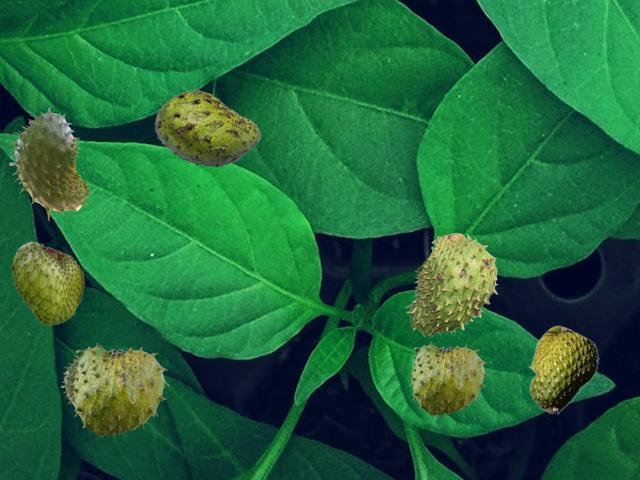guyabano: (405, 233, 497, 336), (70, 342, 168, 436), (9, 107, 89, 220), (154, 90, 260, 166), (528, 325, 598, 414), (12, 240, 83, 324), (409, 341, 487, 415), (61, 355, 79, 412)
